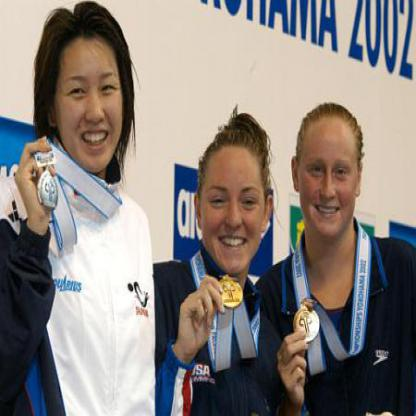face: (56, 11, 125, 177), (203, 131, 266, 275), (301, 105, 359, 243)
